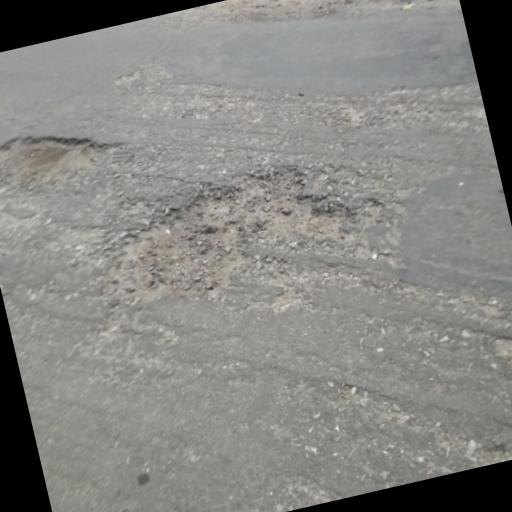pothole: (96, 136, 397, 314), (0, 111, 129, 202)
